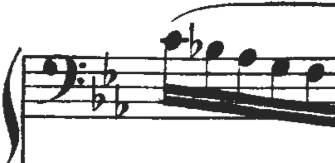bass_clef: (37, 43, 90, 107)
flat: (111, 80, 132, 121), (88, 76, 107, 115), (101, 50, 118, 87)
